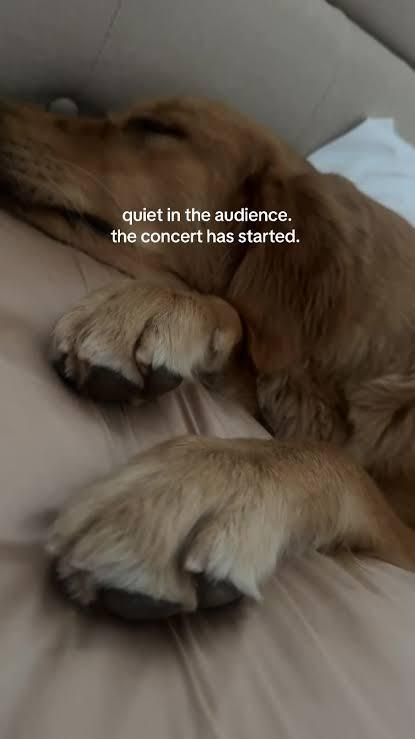adult_dog: (0, 91, 415, 626)
